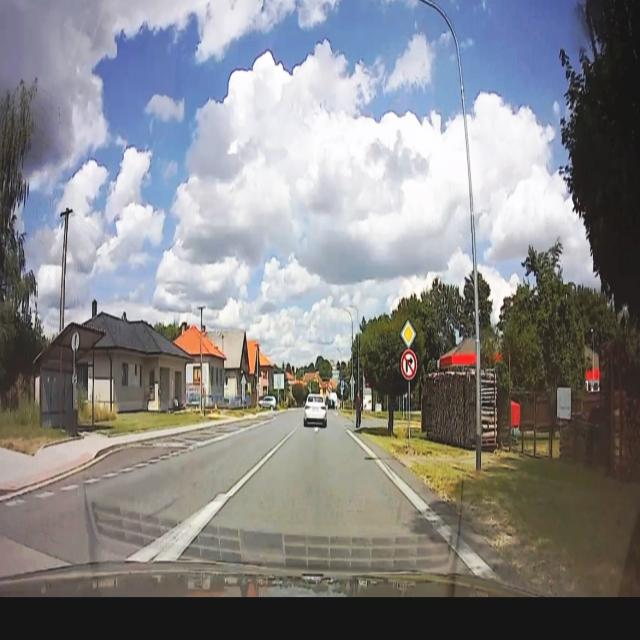Priority road: (400, 316, 418, 349)
